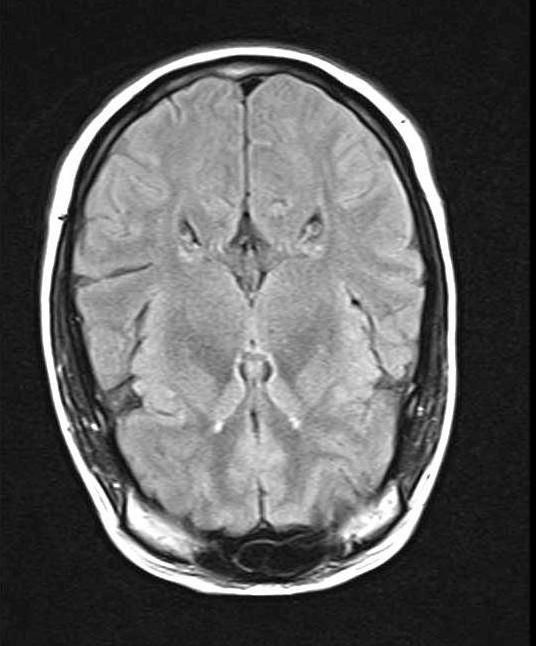Normal_Brain: (1, 1, 536, 646)
